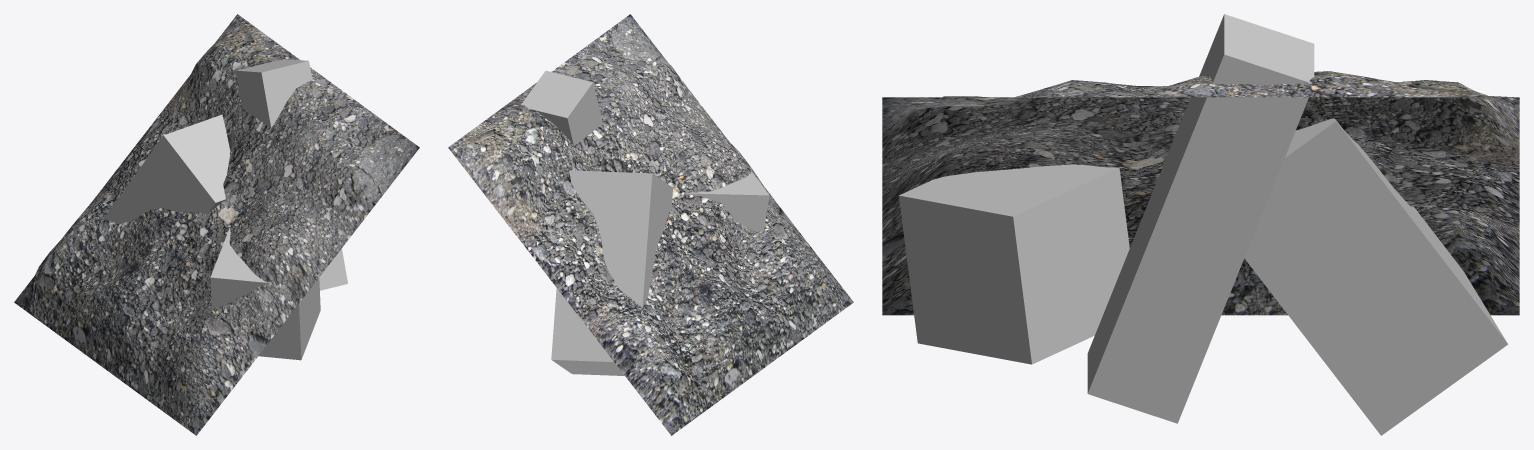
The model's file is debri2.fbx.
The picture shows the model from 3 angles, left to right: view 1: azimuth 30°, elevation 25°; view 2: azimuth 150°, elevation 25°; view 3: azimuth 270°, elevation 25°; orthographic projection. The views are drawn at different scales.
Parts seen in each view (by area): view 1: pPlane3; view 2: pPlane3; view 3: pPlane3.
Part boxes in pixels (x1,y1,x2,y2): pPlane3: (14, 14, 419, 435); pPlane3: (448, 14, 853, 435); pPlane3: (882, 14, 1519, 435).
Bounding box in the file's own units: 14.14 × 15.31 × 20.
